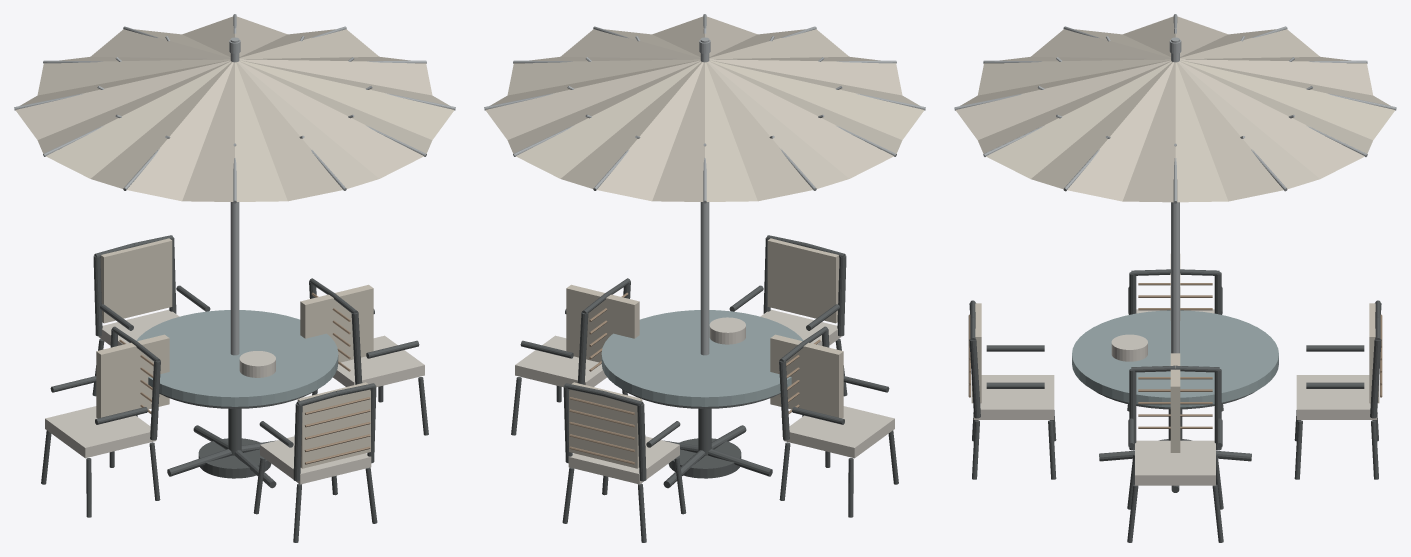
Rendered from patio-completo.glb.
3 views of the same model, side by side, from view 1: azimuth 30°, elevation 25°; view 2: azimuth 150°, elevation 25°; view 3: azimuth 270°, elevation 25° (orthographic).
Parts seen in each view (by area): view 1: table_glass, chair_3_backcushion, canopy_outer_2a_inside, canopy_outer_5b_inside, canopy_outer_4b_inside, canopy_outer_3a_inside, chair_1_backcushion, canopy_outer_6b_inside, canopy_outer_1a_inside, chair_4_backcushion, canopy_outer_3b_inside, canopy_outer_4a_inside (+28 smaller); view 2: table_glass, chair_4_backcushion, canopy_outer_9b_inside, canopy_outer_6a_inside, canopy_outer_7a_inside, canopy_outer_8b_inside, chair_1_backcushion, canopy_outer_5a_inside, canopy_outer_10b_inside, chair_3_backcushion, canopy_outer_8a_inside, canopy_outer_7b_inside (+28 smaller); view 3: table_glass, canopy_outer_1b_inside, canopy_outer_10a_inside, canopy_outer_0b_inside, canopy_outer_11a_inside, canopy_outer_9a_inside, canopy_outer_2b_inside, canopy_outer_0a_inside, canopy_outer_11b_inside, chair_2_seat, canopy_outer_3b_inside, canopy_outer_8a_inside (+21 smaller).
Part boxes in pixels (x1,y1,x2,y2): table_glass: (136,310,338,406); chair_3_backcushion: (100,238,172,323); canopy_outer_2a_inside: (238,61,423,178); canopy_outer_5b_inside: (46,61,231,178); canopy_outer_4b_inside: (127,62,233,201); canopy_outer_3a_inside: (236,62,342,201); chair_1_backcushion: (96,334,169,418); canopy_outer_6b_inside: (15,60,230,139); canopy_outer_1a_inside: (239,60,454,139); chair_4_backcushion: (297,382,370,468); canopy_outer_3b_inside: (235,62,287,201); canopy_outer_4a_inside: (182,62,234,201); table_glass: (601,310,803,406); chair_4_backcushion: (767,238,839,323); canopy_outer_9b_inside: (516,61,701,178); canopy_outer_6a_inside: (708,61,893,178); canopy_outer_7a_inside: (706,62,812,201); canopy_outer_8b_inside: (597,62,703,201); chair_1_backcushion: (770,334,843,418); canopy_outer_5a_inside: (709,60,924,139); canopy_outer_10b_inside: (485,60,700,139); chair_3_backcushion: (569,382,642,468); canopy_outer_8a_inside: (652,62,704,201); canopy_outer_7b_inside: (705,62,757,201); table_glass: (1072,310,1278,407); canopy_outer_1b_inside: (986,61,1171,178); canopy_outer_10a_inside: (1179,61,1364,178); canopy_outer_0b_inside: (1067,62,1174,201); canopy_outer_11a_inside: (1176,62,1283,201); canopy_outer_9a_inside: (1180,60,1395,139); canopy_outer_2b_inside: (955,60,1170,139); canopy_outer_0a_inside: (1122,62,1175,202); canopy_outer_11b_inside: (1175,62,1228,202); chair_2_seat: (1135,440,1215,485); canopy_outer_3b_inside: (977,59,1170,95); canopy_outer_8a_inside: (1180,59,1373,95).
Size of the model in its own units: 2.9 by 3.08 by 2.91.
